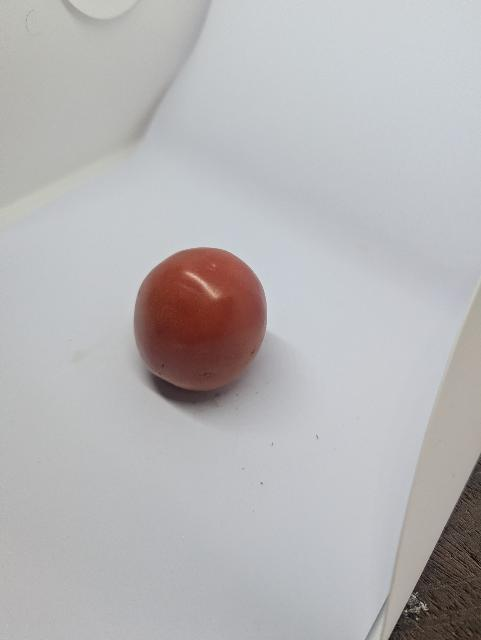red: (115, 239, 293, 400)
